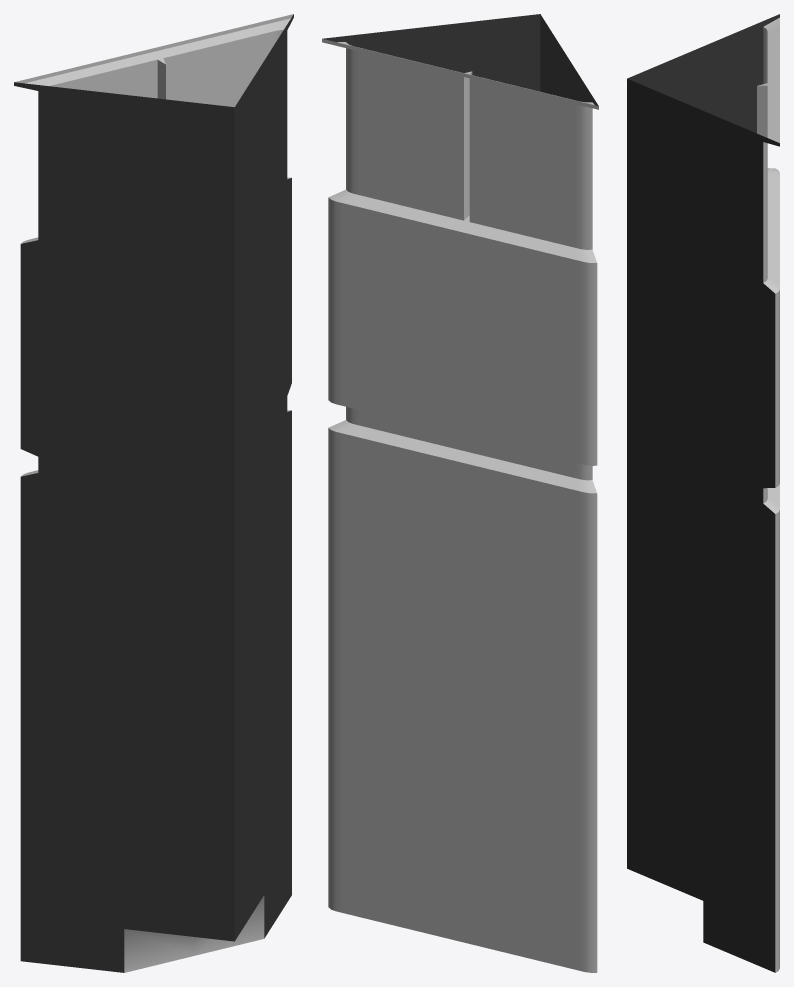
Rendered from corridor_walls.fbx.
3 renders of one model, left to right at view 1: azimuth 30°, elevation 25°; view 2: azimuth 150°, elevation 25°; view 3: azimuth 270°, elevation 25°, orthographic. The views are drawn at different scales.
Visible parts, largest first — view 1: corridor_walls_and_floor:Corridor_Wall_Corner_Out_Both; view 2: corridor_walls_and_floor:Corridor_Wall_Corner_Out_Both; view 3: corridor_walls_and_floor:Corridor_Wall_Corner_Out_Both.
Part boxes in pixels (box(x1,y1,x2,y2)): corridor_walls_and_floor:Corridor_Wall_Corner_Out_Both: box(14, 14, 293, 972); corridor_walls_and_floor:Corridor_Wall_Corner_Out_Both: box(322, 14, 598, 972); corridor_walls_and_floor:Corridor_Wall_Corner_Out_Both: box(627, 14, 779, 972).
Bounding box in the file's own units: 100 × 300 × 50.
